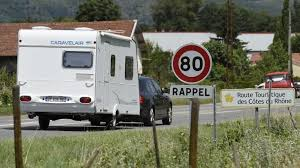Speed_limit_80km: (172, 44, 213, 84)
